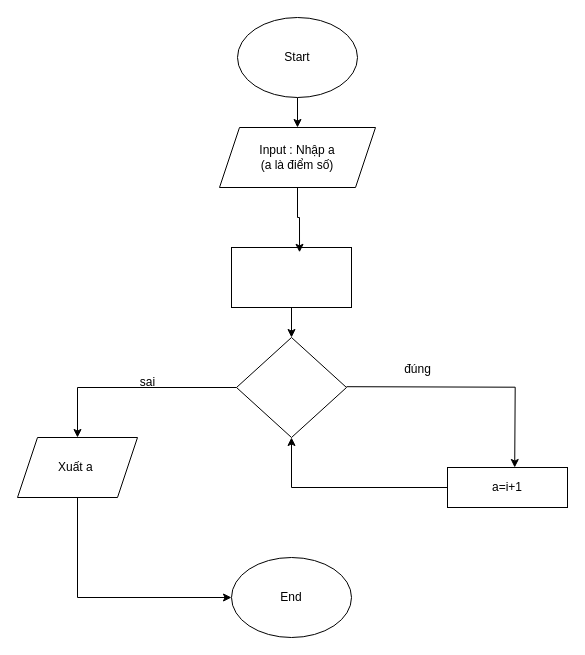
The diagram is 585 pixels wide and 655 high, and some of its shapes have lost their labels. The centre of each missing label's shape, as x and y in pixels:
i<=5: the point at 291,387
i=0: the point at 291,277
